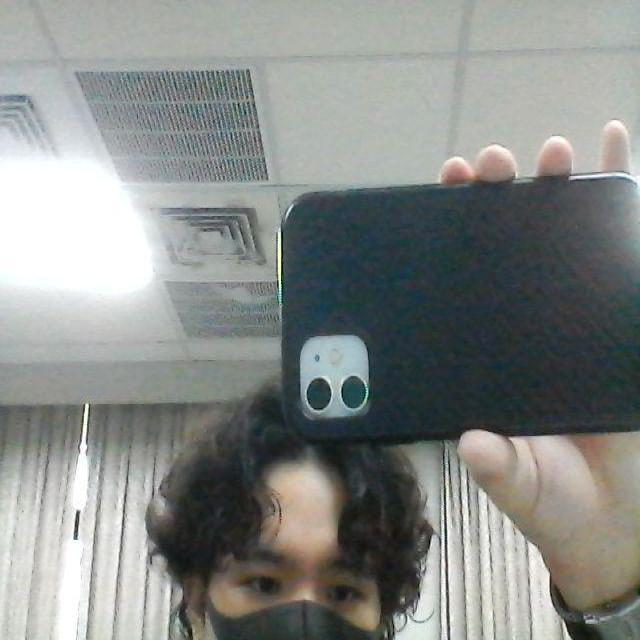phone: (275, 170, 640, 454)
